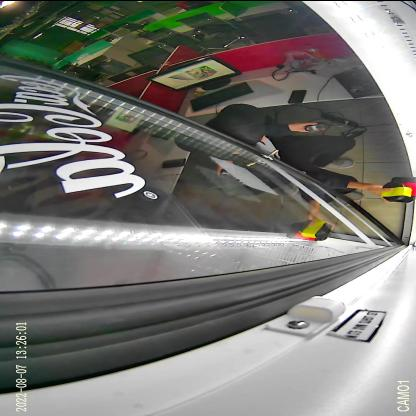red: (387, 176, 416, 202)
yellow: (382, 181, 412, 200)
